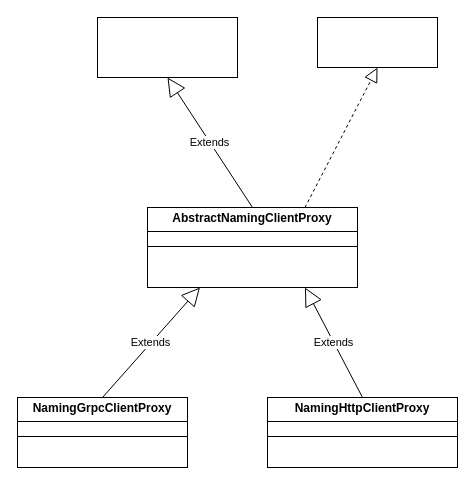
The diagram is 475 pixels wide and 485 high, and some of its shapes have lost their labels. The shapes that lost their labels are listed below. From the top down, each one's box as (x1, y1, x2, y2) in pixels, then its label:
(96, 16, 238, 78): Subscriber
(316, 16, 438, 68): «interface» NamingClientProxy
